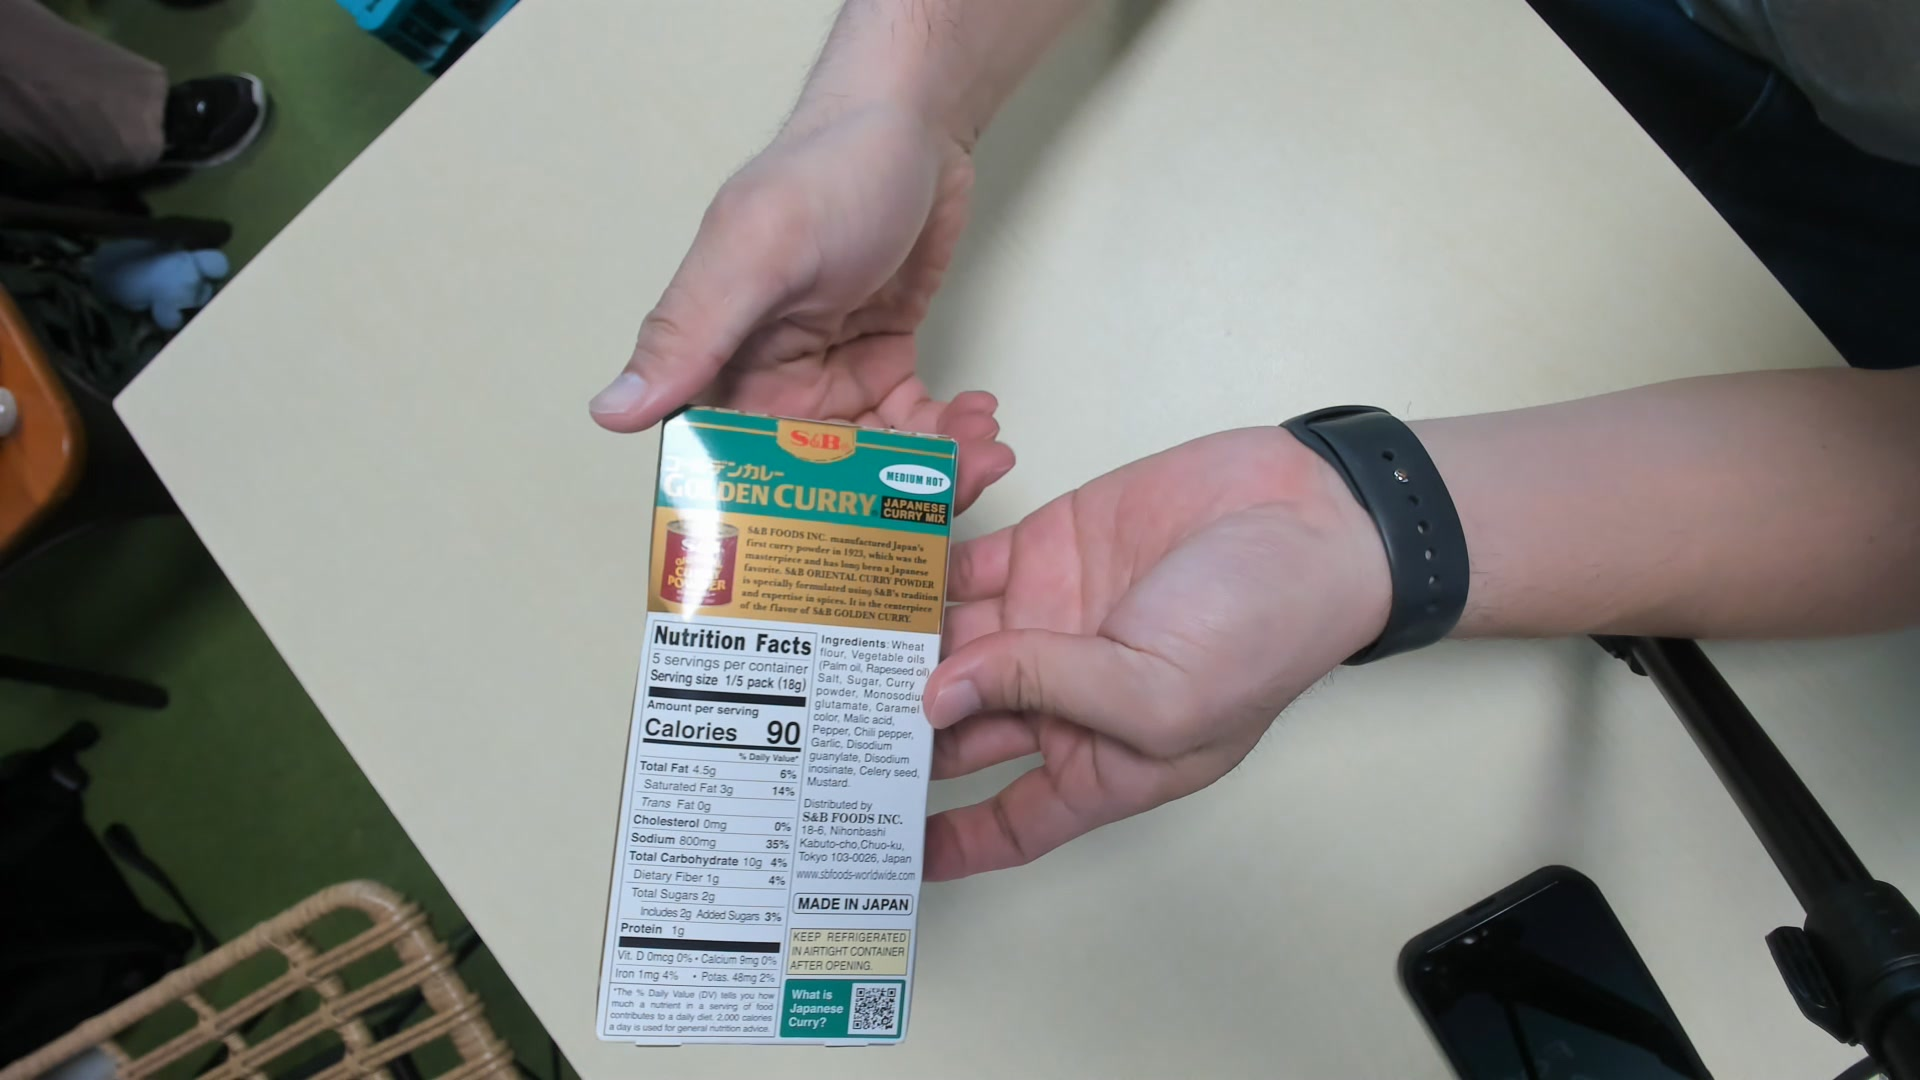OtherSauceDressing_0-99g_NonHalal_NonHealthy: (587, 401, 955, 1046)
